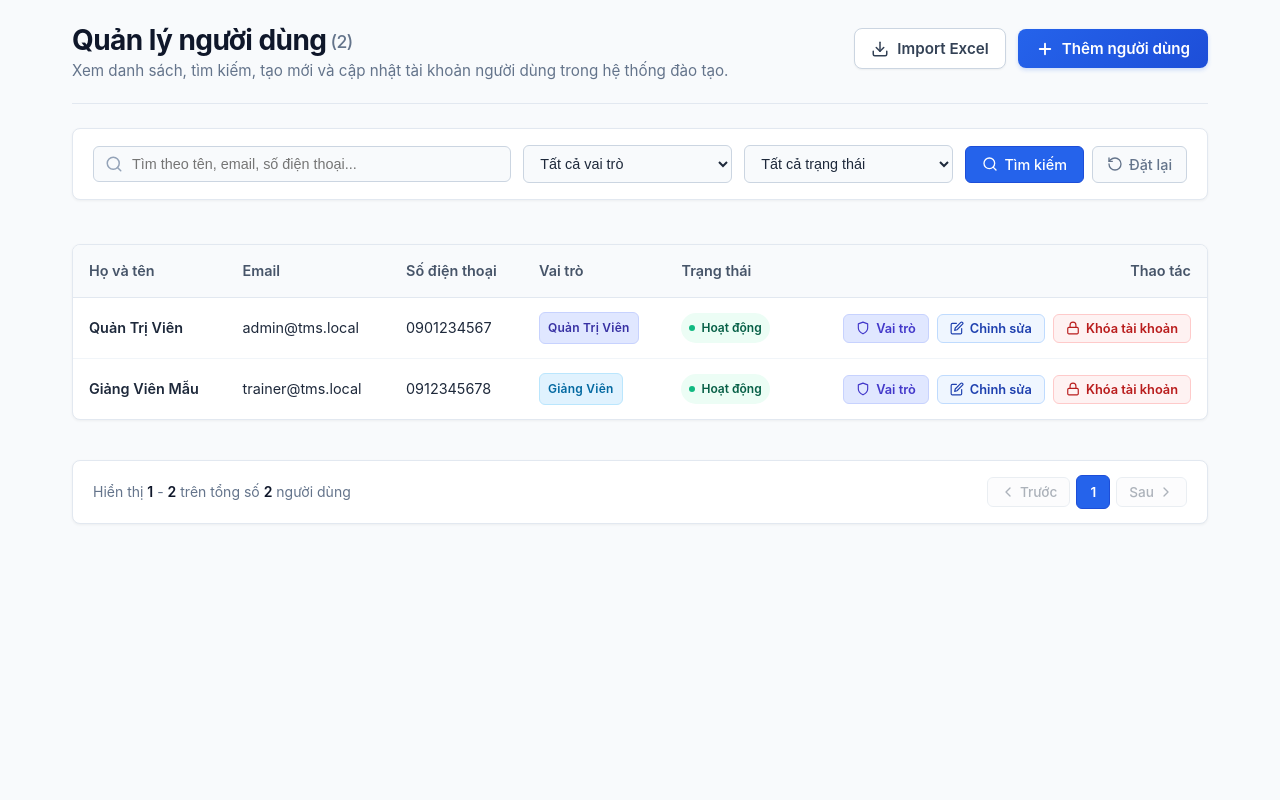
Test: SCRUM-102: Frontend Overall User Role Management Matrix › 20. thực hiện gỡ vai trò thành công khi người dùng xác nhận
Click the button with test id "btn-manage-role-2".
click(886, 389)  # box [843,375,929,404]
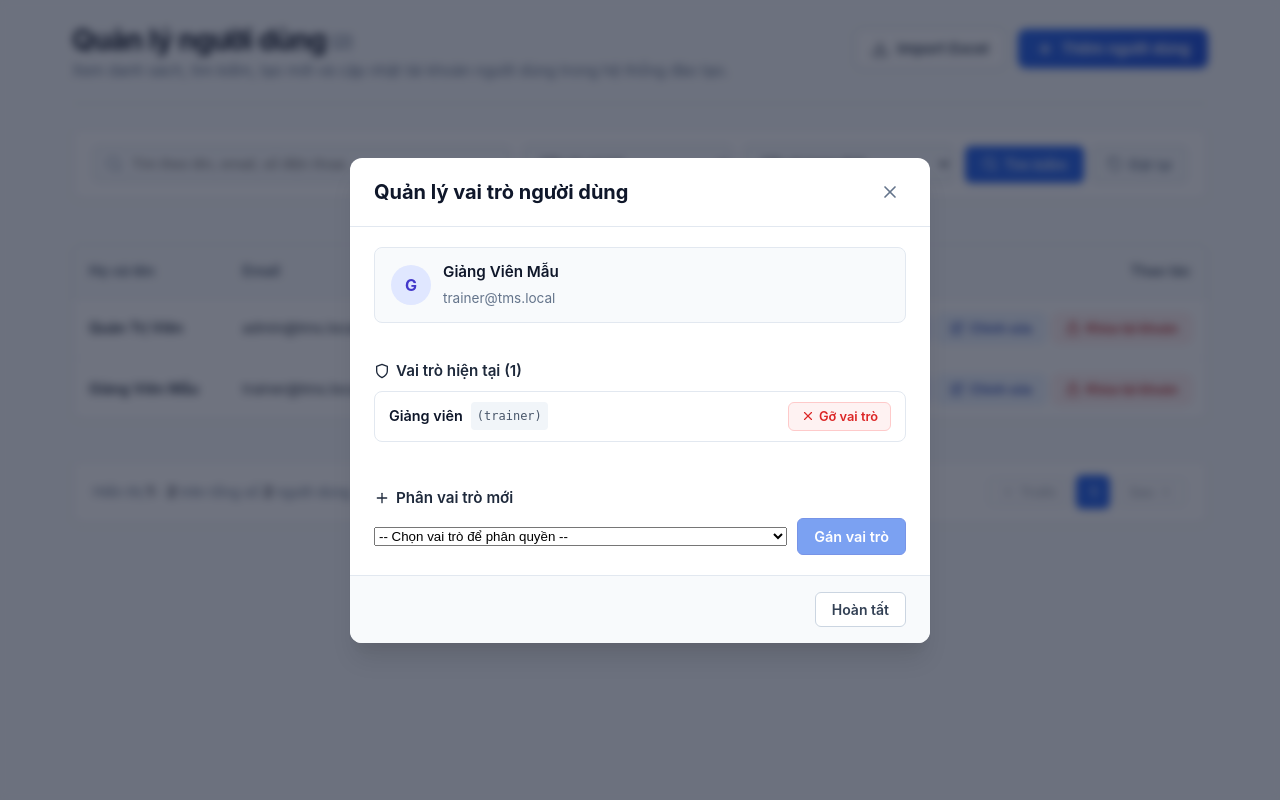
Result: the button with test id "btn-revoke-role-2" is shown
Click the button with test id "btn-revoke-role-2".
click(840, 416)  # box [788,402,891,430]
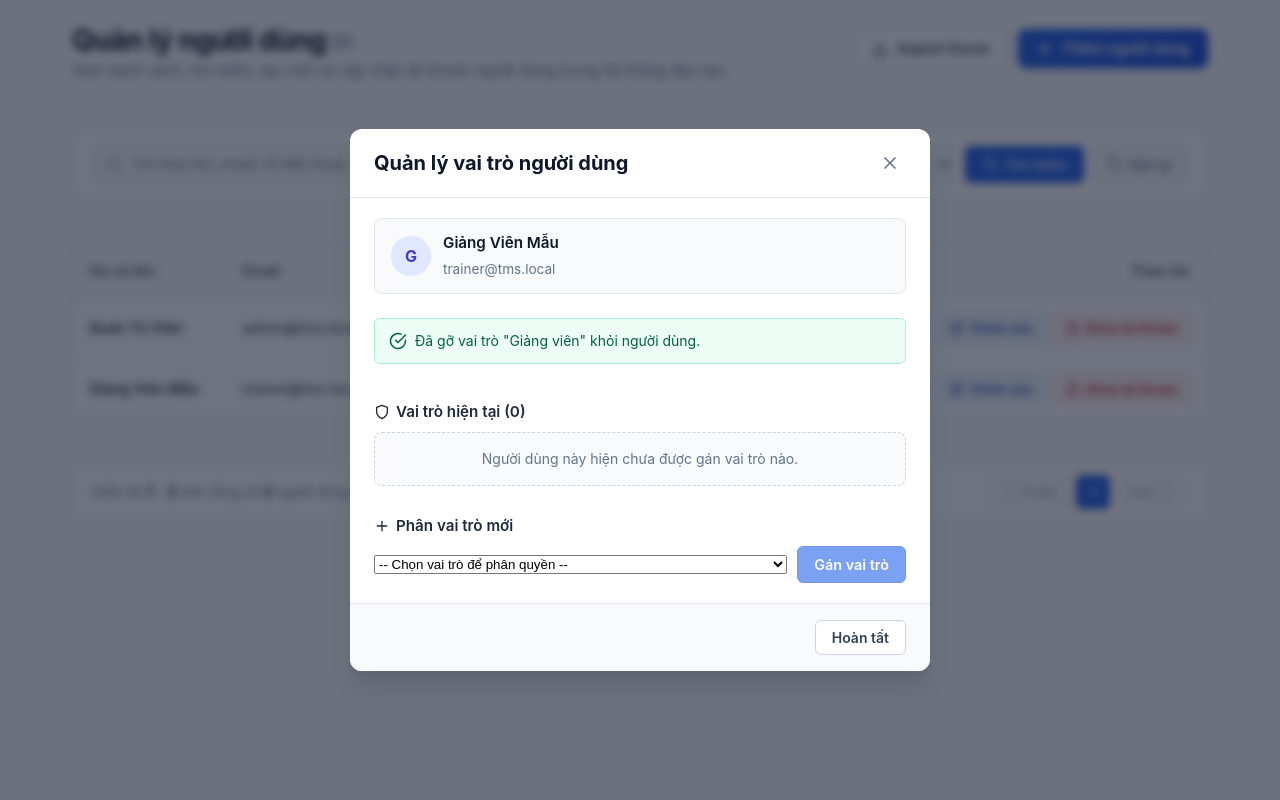
Result: the message "Đã gỡ vai trò \"Giảng viên\" khỏi người dùng." is shown at [374,318,906,364]
Result: the text "Đã gỡ vai trò \"Giảng viên\" khỏi người dùng." is shown at [415,329,700,353]
